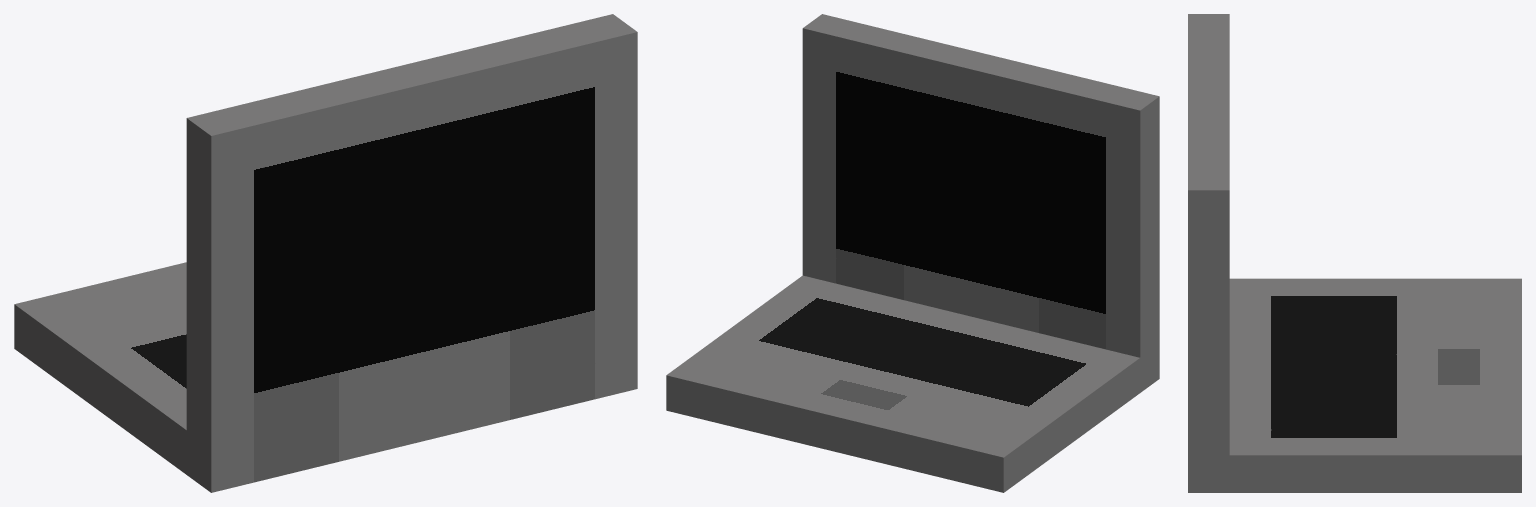
The model's file is laptop.dae.
The picture shows the model from 3 angles, left to right: view 1: azimuth 30°, elevation 25°; view 2: azimuth 150°, elevation 25°; view 3: azimuth 270°, elevation 25°; orthographic projection. The views are drawn at different scales.
Parts seen in each view (by area): view 1: laptop; view 2: laptop; view 3: laptop.
Part boxes in pixels (bbox=[...]): laptop: bbox=[14, 14, 637, 492]; laptop: bbox=[666, 14, 1159, 492]; laptop: bbox=[1188, 14, 1521, 492].
Size of the model in its own units: 1 by 0.8 by 0.8.
1 material, 1 textured.
